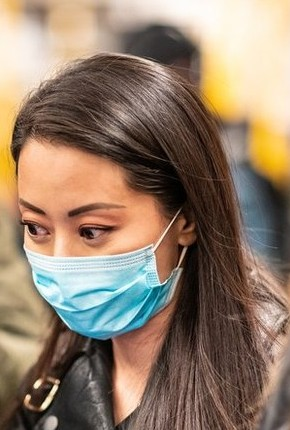with_mask: (11, 91, 241, 357)
